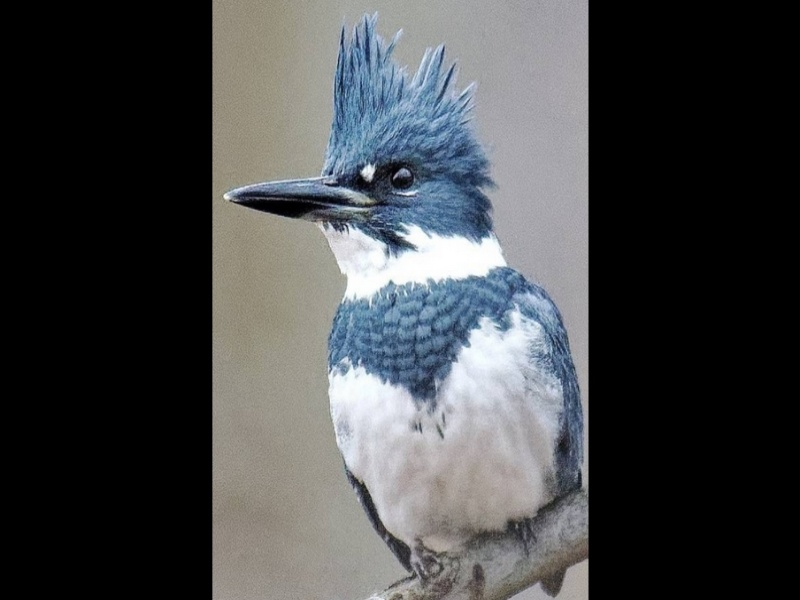kingfisher: (222, 17, 579, 593)
